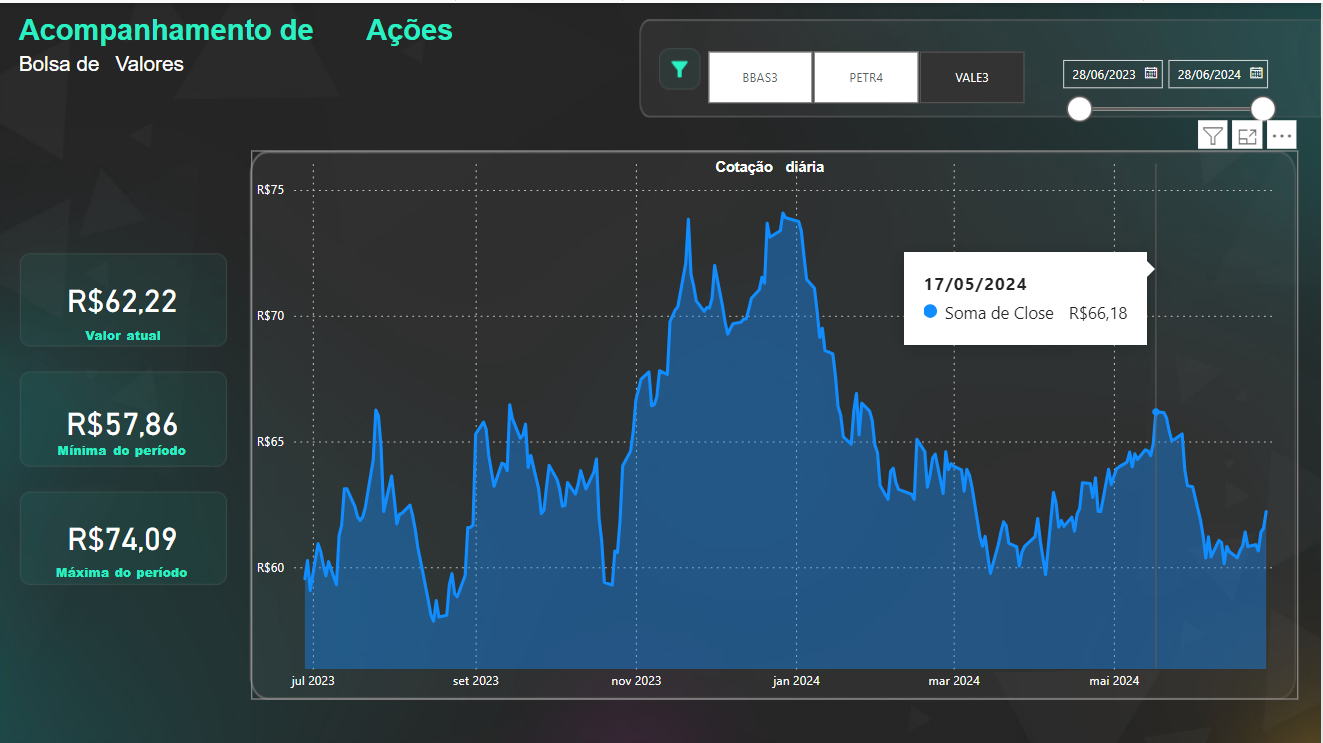

The page's visual inventory and layout, read from the dashboard file:
{"tool":"powerbi","page":{"name":"Página 1","canvas":[1280,720],"ordinal":0},"visuals":[{"type":"slicer","fields":{"Values":["Ações.ticker"]},"box":[662.2,40.4,354.9,63.5],"z":0},{"type":"slicer","fields":{"Values":["Ações.Date"]},"box":[1018.6,44.7,226.5,85.1],"z":1000},{"type":"card","fields":{"Values":["Sum(Ações.Close)"]},"box":[24.5,238.1,197.7,96.7],"z":2000},{"type":"card","fields":{"Values":["Min(Ações.Close)"]},"box":[24.1,359.5,197.9,89.3],"z":2001},{"type":"card","fields":{"Values":["Max(Ações.Close)"]},"box":[24.1,469.3,197.9,91.7],"z":2002},{"type":"areaChart","fields":{"Y":["Sum(Ações.Close)"],"Category":["Ações.Date"]},"box":[247.3,142.4,1009.8,529.6],"z":2003}]}

Visuals, with their boxes in screenshot pixels (x1, y1, x2, y2), scaled from the page's 1280x720 canvas onto the 1323x743 screenshot:
slicer - Ações.ticker: rect(684, 42, 1051, 107)
slicer - Ações.Date: rect(1053, 46, 1287, 134)
card - Sum(Ações.Close): rect(25, 246, 230, 345)
card - Min(Ações.Close): rect(25, 371, 229, 463)
card - Max(Ações.Close): rect(25, 484, 229, 579)
areaChart - Sum(Ações.Close) x Ações.Date: rect(256, 147, 1299, 693)
